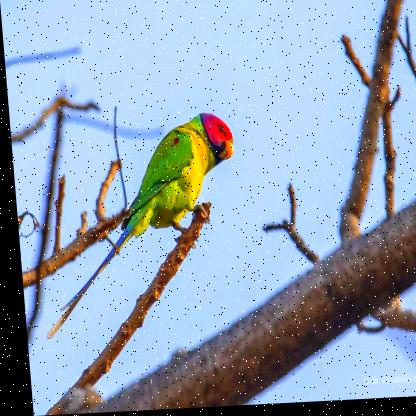Burung: (27, 113, 242, 338)
